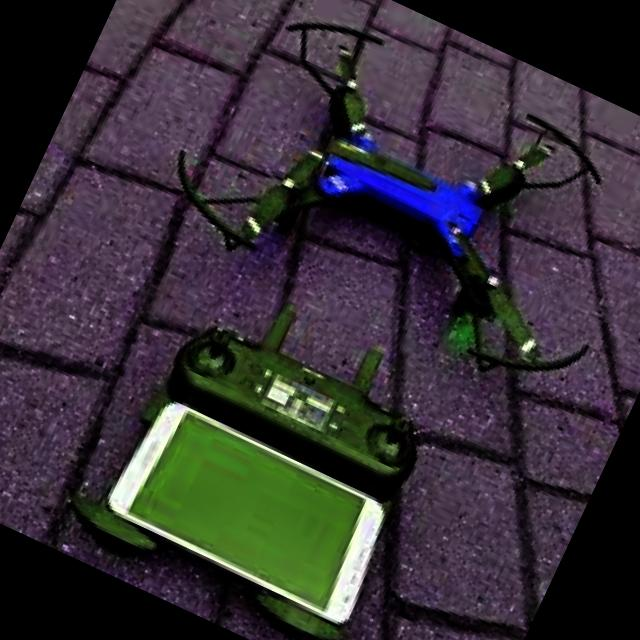drone: (130, 0, 640, 444)
